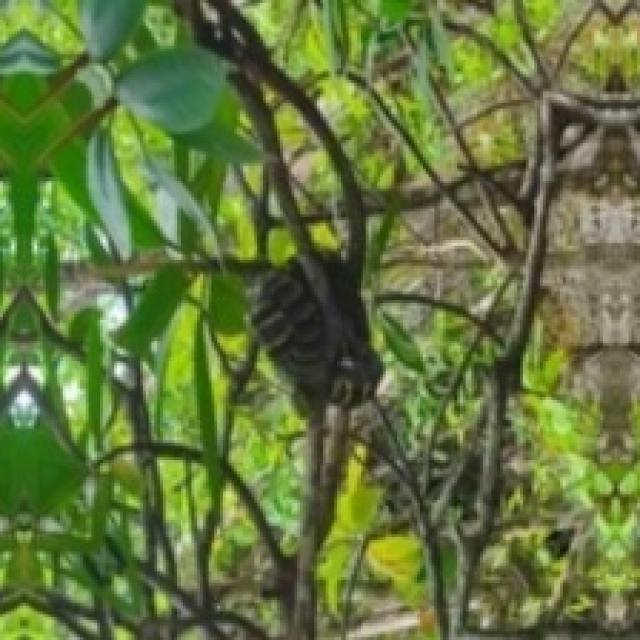mangrove cat snake: (249, 254, 380, 406)
